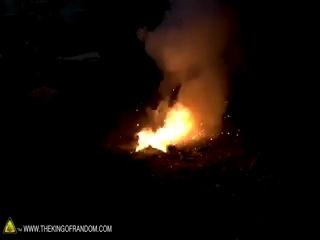Fire: (132, 97, 191, 158)
